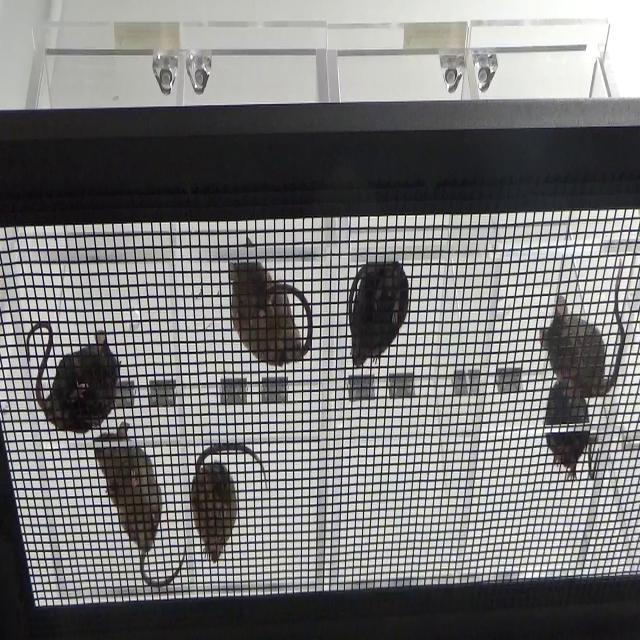scratch: (529, 284, 630, 395)
